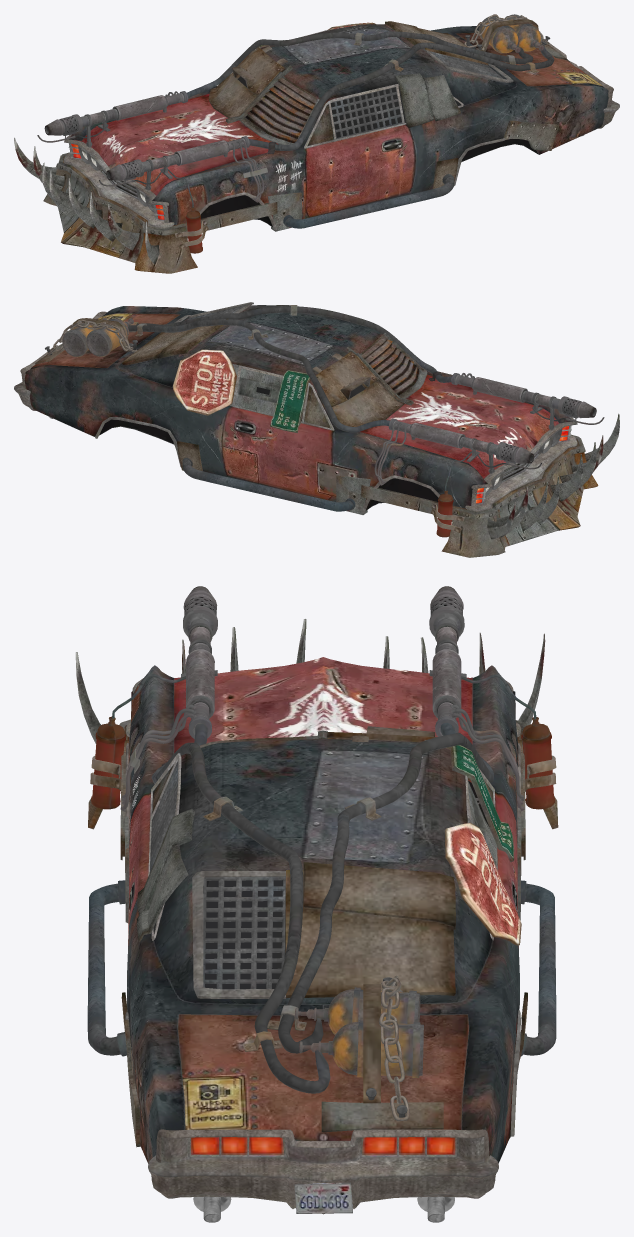
The model's file is car-transformed.glb.
3 renders of one model, top to bottom at view 1: azimuth 30°, elevation 25°; view 2: azimuth 150°, elevation 25°; view 3: azimuth 270°, elevation 25°, orthographic. The views are drawn at different scales.
Visible parts, largest first — view 1: Object_2; view 2: Object_2; view 3: Object_2.
Part boxes in pixels (left/top/right/bottom): Object_2: left=14, top=14, right=619, bottom=273; Object_2: left=14, top=302, right=619, bottom=557; Object_2: left=75, top=586, right=558, bottom=1222.
Bounding box in the file's own units: 1.8 × 0.4203 × 0.7165.
1 material, 1 textured.
